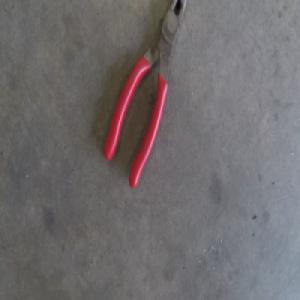Pliers: (101, 0, 186, 190)
